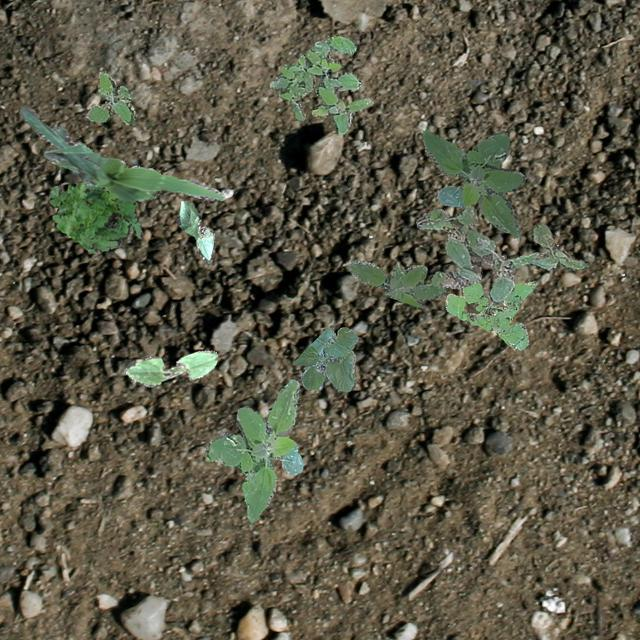crop: (18, 106, 224, 200), (293, 326, 357, 391), (124, 349, 216, 386), (176, 198, 213, 262)
weed: (414, 204, 586, 306), (204, 378, 302, 522), (420, 128, 524, 236), (268, 34, 372, 134), (46, 180, 140, 252), (444, 280, 536, 348), (348, 258, 446, 306), (85, 70, 134, 122)
